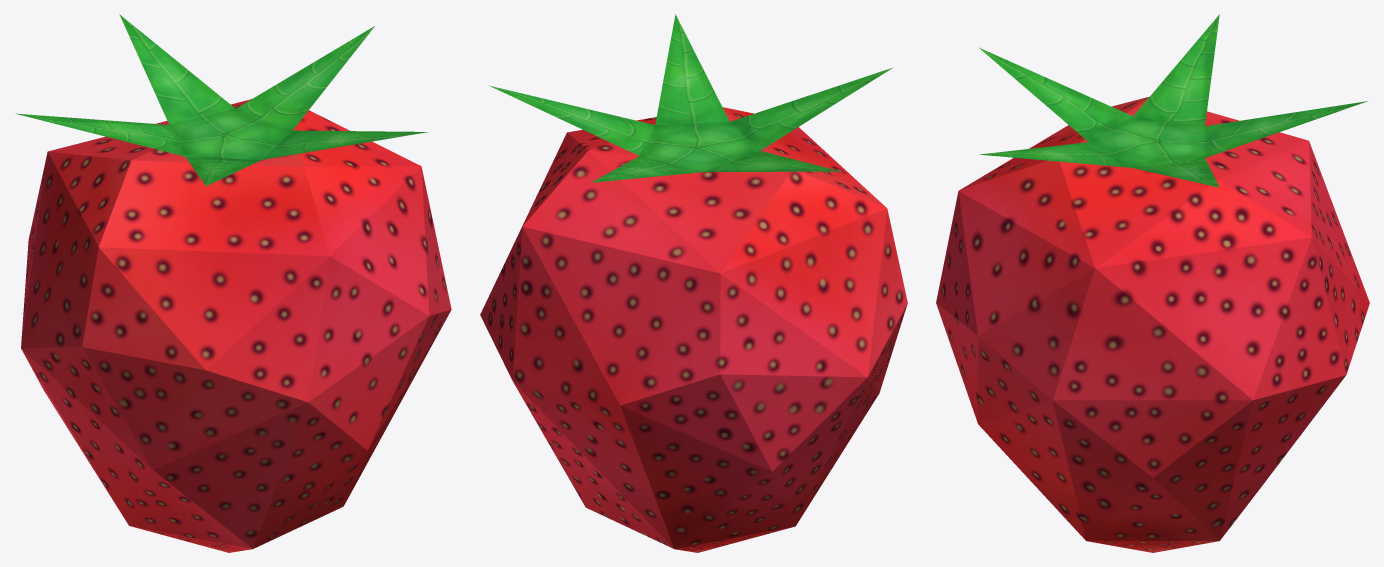
The model's file is strawberry.gltf.
3 views of the same model, side by side, from view 1: azimuth 30°, elevation 25°; view 2: azimuth 150°, elevation 25°; view 3: azimuth 270°, elevation 25° (orthographic). The views are drawn at different scales.
Parts seen in each view (by area): view 1: Strawberry, Strawberry Leaf; view 2: Strawberry, Strawberry Leaf; view 3: Strawberry, Strawberry Leaf.
Part boxes in pixels (bbox=[...]): Strawberry: bbox=[21, 99, 451, 552]; Strawberry Leaf: bbox=[15, 14, 427, 186]; Strawberry: bbox=[480, 107, 907, 552]; Strawberry Leaf: bbox=[489, 14, 893, 182]; Strawberry: bbox=[936, 96, 1369, 552]; Strawberry Leaf: bbox=[978, 14, 1367, 187].
Bounding box in the file's own units: 0.14 × 0.1652 × 0.1437.
2 materials, 2 textured.
